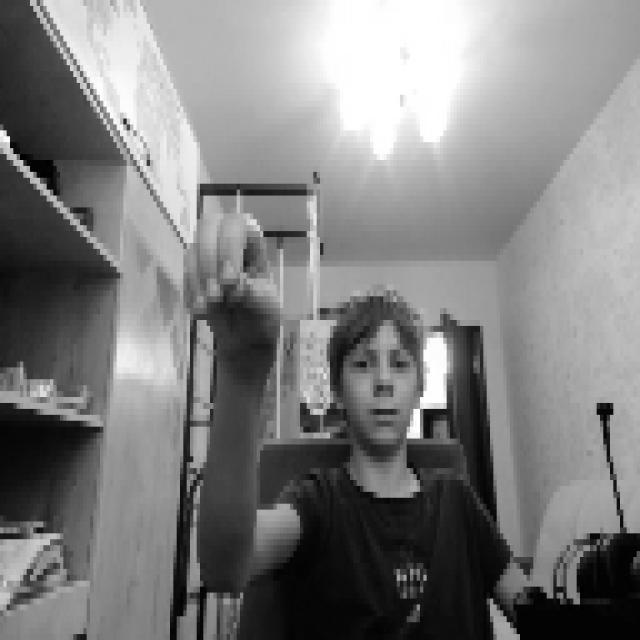left_click: (177, 196, 273, 350)
